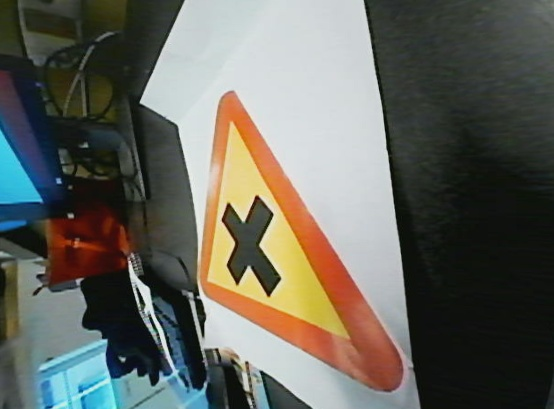junction: (185, 87, 408, 397)
